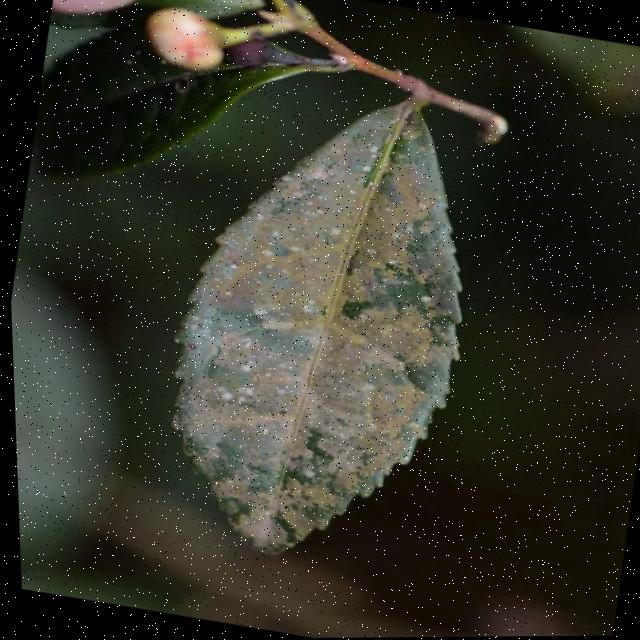Tea algae leaf spot: (152, 112, 491, 558)
